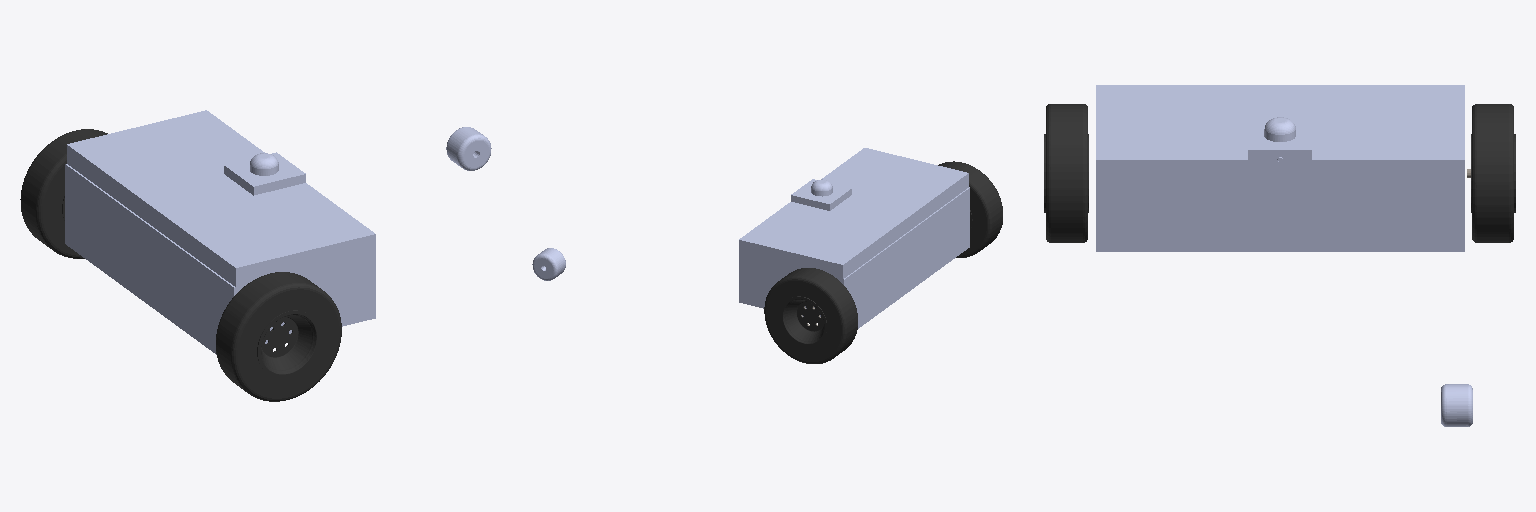
URDF robot description (mowbot):
<?xml version="1.0" encoding="utf-8"?>
<!-- This URDF was automatically created by SolidWorks to URDF Exporter! Originally created by [author] ([email redacted]) 
     Commit Version: 1.6.0-1-g15f4949  Build Version: 1.6.7594.29634
     For more information, please see http://wiki.ros.org/sw_urdf_exporter -->
<robot
  name="mowbot">
  <link
    name="base_link_collision">
    <inertial>
      <origin
        xyz="-1.07242311207568 -0.466809806679582 0.659283164452566"
        rpy="0 0 0" />
      <mass
        value="8.43639227238404" />
      <inertia
        ixx="0.784903759828431"
        ixy="1.08724156323787E-16"
        ixz="-0.0262712397999976"
        iyy="0.513799136067179"
        iyz="1.21747716886318E-16"
        izz="1.27862934221056" />
    </inertial>
    <visual>
      <origin
        xyz="0 0 0"
        rpy="0 0 0" />
      <geometry>
        <mesh
          filename="package://mowbot/meshes/base_link_collision.STL" />
      </geometry>
      <material
        name="">
        <color
          rgba="0.792156862745098 0.819607843137255 0.933333333333333 1" />
      </material>
    </visual>
    <collision>
      <origin
        xyz="0 0 0"
        rpy="0 0 0" />
      <geometry>
        <mesh
          filename="package://mowbot/meshes/base_link_collision.STL" />
      </geometry>
    </collision>
  </link>
  <link
    name="Left_back_link_collision">
    <inertial>
      <origin
        xyz="0 -0.0516944479368262 1.11022302462516E-16"
        rpy="0 0 0" />
      <mass
        value="0.457406434462016" />
      <inertia
        ixx="0.000379865320962435"
        ixy="-1.53340823737443E-20"
        ixz="2.00126009449548E-20"
        iyy="0.000605566845786777"
        iyz="-6.36282392622323E-20"
        izz="0.000379865320962435" />
    </inertial>
    <visual>
      <origin
        xyz="0 0 0"
        rpy="0 0 0" />
      <geometry>
        <mesh
          filename="package://mowbot/meshes/Left_back_link_collision.STL" />
      </geometry>
      <material
        name="">
        <color
          rgba="0.647058823529412 0.619607843137255 0.588235294117647 1" />
      </material>
    </visual>
    <collision>
      <origin
        xyz="0 0 0"
        rpy="0 0 0" />
      <geometry>
        <mesh
          filename="package://mowbot/meshes/Left_back_link_collision.STL" />
      </geometry>
    </collision>
  </link>
  <joint
    name="Left_drive_wheel_collision"
    type="fixed">
    <origin
      xyz="-1.5558 -0.024 0.62929"
      rpy="0 0 3.1416" />
    <parent
      link="base_link_collision" />
    <child
      link="Left_back_link_collision" />
    <axis
      xyz="0 1 0" />
    <limit
      effort="14.08"
      velocity="12.47" />
  </joint>
  <link
    name="Big_Left_drive_wheel">
    <inertial>
      <origin
        xyz="2.88657986402541E-15 0.00253999999999991 6.99440505513849E-15"
        rpy="0 0 0" />
      <mass
        value="0.865783559302399" />
      <inertia
        ixx="0.0087101639453226"
        ixy="-1.8447046377941E-19"
        ixz="6.2871241193797E-18"
        iyy="0.0148072252563878"
        iyz="1.27245613539844E-18"
        izz="0.00871016394532261" />
    </inertial>
    <visual>
      <origin
        xyz="0 0 0"
        rpy="0 0 0" />
      <geometry>
        <mesh
          filename="package://mowbot/meshes/Big_Left_drive_wheel.STL" />
      </geometry>
      <material
        name="">
        <color
          rgba="0.250980392156863 0.250980392156863 0.250980392156863 1" />
      </material>
    </visual>
    <collision>
      <origin
        xyz="0 0 0"
        rpy="0 0 0" />
      <geometry>
        <mesh
          filename="package://mowbot/meshes/Big_Left_drive_wheel.STL" />
      </geometry>
    </collision>
  </link>
  <joint
    name="Left_big_wheel"
    type="fixed">
    <origin
      xyz="0 -0.059347 0"
      rpy="0 0 -3.1416" />
    <parent
      link="Left_back_link_collision" />
    <child
      link="Big_Left_drive_wheel" />
    <axis
      xyz="0 0 0" />
  </joint>
  <link
    name="Right_back_link_collision">
    <inertial>
      <origin
        xyz="0.0516944479368262 0 0"
        rpy="0 0 0" />
      <mass
        value="0.457406434462017" />
      <inertia
        ixx="0.000605566845786777"
        ixy="-4.54885968259021E-20"
        ixz="-1.4852017744384E-20"
        iyy="0.000379865320962435"
        iyz="6.66407504159206E-20"
        izz="0.000379865320962436" />
    </inertial>
    <visual>
      <origin
        xyz="0 0 0"
        rpy="0 0 0" />
      <geometry>
        <mesh
          filename="package://mowbot/meshes/Right_back_link_collision.STL" />
      </geometry>
      <material
        name="">
        <color
          rgba="0.647058823529412 0.619607843137255 0.588235294117647 1" />
      </material>
    </visual>
    <collision>
      <origin
        xyz="0 0 0"
        rpy="0 0 0" />
      <geometry>
        <mesh
          filename="package://mowbot/meshes/Right_back_link_collision.STL" />
      </geometry>
    </collision>
  </link>
  <joint
    name="Right_drive_wheel_collision"
    type="fixed">
    <origin
      xyz="-1.5558 -0.9108 0.62929"
      rpy="0 0 -1.5708" />
    <parent
      link="base_link_collision" />
    <child
      link="Right_back_link_collision" />
    <axis
      xyz="-1 0 0" />
    <limit
      effort="14.08"
      velocity="12.47" />
  </joint>
  <link
    name="Big_right_drive_wheel">
    <inertial>
      <origin
        xyz="0 -0.0025400000000001 0"
        rpy="0 0 0" />
      <mass
        value="0.865783559302402" />
      <inertia
        ixx="0.00871016394532259"
        ixy="2.01760622051767E-18"
        ixz="2.57399683328125E-18"
        iyy="0.0148072252563877"
        iyz="2.68460910313788E-18"
        izz="0.00871016394532259" />
    </inertial>
    <visual>
      <origin
        xyz="0 0 0"
        rpy="0 0 0" />
      <geometry>
        <mesh
          filename="package://mowbot/meshes/Big_right_drive_wheel.STL" />
      </geometry>
      <material
        name="">
        <color
          rgba="0.250980392156863 0.250980392156863 0.250980392156863 1" />
      </material>
    </visual>
    <collision>
      <origin
        xyz="0 0 0"
        rpy="0 0 0" />
      <geometry>
        <mesh
          filename="package://mowbot/meshes/Big_right_drive_wheel.STL" />
      </geometry>
    </collision>
  </link>
  <joint
    name="Right_drive_wheel"
    type="fixed">
    <origin
      xyz="0.059347 0 0"
      rpy="0 0 1.5708" />
    <parent
      link="Right_back_link_collision" />
    <child
      link="Big_right_drive_wheel" />
    <axis
      xyz="0 -1 0" />
  </joint>
  <link
    name="Front_right_wheel_collision">
    <inertial>
      <origin
        xyz="-0.0362351705056738 0.011773802207645 -1.11022302462516E-16"
        rpy="0 0 0" />
      <mass
        value="0.572204494653308" />
      <inertia
        ixx="0.000736746749851423"
        ixy="-3.31369879620031E-05"
        ixz="1.207002854401E-20"
        iyy="0.000645531144479367"
        iyz="-3.92188381438836E-21"
        izz="0.000634764026881268" />
    </inertial>
    <visual>
      <origin
        xyz="0 0 0"
        rpy="0 0 0" />
      <geometry>
        <mesh
          filename="package://mowbot/meshes/Front_right_wheel_collision.STL" />
      </geometry>
      <material
        name="">
        <color
          rgba="0.792156862745098 0.819607843137255 0.933333333333333 1" />
      </material>
    </visual>
    <collision>
      <origin
        xyz="0 0 0"
        rpy="0 0 0" />
      <geometry>
        <mesh
          filename="package://mowbot/meshes/Front_right_wheel_collision.STL" />
      </geometry>
    </collision>
  </link>
  <joint
    name="Front_right_wheel_collision"
    type="fixed">
    <origin
      xyz="-0.46473 -0.9216 0.53563"
      rpy="0 0 -1.5708" />
    <parent
      link="base_link_collision" />
    <child
      link="Front_right_wheel_collision" />
    <axis
      xyz="-0.95105 0.30902 0" />
  </joint>
  <link
    name="Front_left_wheel_collision">
    <inertial>
      <origin
        xyz="0.0380933250274411 0.000713153807905376 0"
        rpy="0 0 0" />
      <mass
        value="0.572204494653308" />
      <inertia
        ixx="0.000747474364238742"
        ixy="2.1100758786185E-06"
        ixz="-2.22480801212241E-20"
        iyy="0.000634803530092046"
        iyz="-5.65057302719004E-21"
        izz="0.000634764026881268" />
    </inertial>
    <visual>
      <origin
        xyz="0 0 0"
        rpy="0 0 0" />
      <geometry>
        <mesh
          filename="package://mowbot/meshes/Front_left_wheel_collision.STL" />
      </geometry>
      <material
        name="">
        <color
          rgba="0.792156862745098 0.819607843137255 0.933333333333333 1" />
      </material>
    </visual>
    <collision>
      <origin
        xyz="0 0 0"
        rpy="0 0 0" />
      <geometry>
        <mesh
          filename="package://mowbot/meshes/Front_left_wheel_collision.STL" />
      </geometry>
    </collision>
  </link>
  <joint
    name="Front_left_caster_wheel_collision"
    type="fixed">
    <origin
      xyz="-0.45376 -0.0096498 0.53563"
      rpy="0 0 -1.5708" />
    <parent
      link="base_link_collision" />
    <child
      link="Front_left_wheel_collision" />
    <axis
      xyz="-0.99982 -0.018718 0" />
  </joint>
  <link
    name="Front_right_pivot_collision">
    <inertial>
      <origin
        xyz="0.00312127257340478 0.00960663401184786 -0.138503316862634"
        rpy="0 0 0" />
      <mass
        value="0.653153653717284" />
      <inertia
        ixx="0.00187148737171852"
        ixy="0.000481271649470043"
        ixz="-3.57978459347905E-05"
        iyy="0.00319627975514256"
        iyz="-0.000110145417942268"
        izz="0.00245508069726112" />
    </inertial>
    <visual>
      <origin
        xyz="0 0 0"
        rpy="0 0 0" />
      <geometry>
        <mesh
          filename="package://mowbot/meshes/Front_right_pivot_collision.STL" />
      </geometry>
      <material
        name="">
        <color
          rgba="0.792156862745098 0.819607843137255 0.933333333333333 1" />
      </material>
    </visual>
    <collision>
      <origin
        xyz="0 0 0"
        rpy="0 0 0" />
      <geometry>
        <mesh
          filename="package://mowbot/meshes/Front_right_pivot_collision.STL" />
      </geometry>
    </collision>
  </link>
  <joint
    name="Right_caster_wheel_pivot_collision"
    type="fixed">
    <origin
      xyz="-0.45126 -0.88591 0.73883"
      rpy="0 0 -1.5708" />
    <parent
      link="base_link_collision" />
    <child
      link="Front_right_pivot_collision" />
    <axis
      xyz="0 0 -1" />
    <limit
      lower="0"
      upper="0"
      effort="0"
      velocity="0" />
  </joint>
  <link
    name="Front_left_pivot_collision">
    <inertial>
      <origin
        xyz="-0.000189247104649098 0.0100992051691442 -0.138503316862633"
        rpy="0 0 0" />
      <mass
        value="0.65315365371728" />
      <inertia
        ixx="0.0017156831912875"
        ixy="-3.06474534539606E-05"
        ixz="2.15969712554344E-06"
        iyy="0.00335208393557355"
        iyz="-0.000115796522294816"
        izz="0.00245508069726111" />
    </inertial>
    <visual>
      <origin
        xyz="0 0 0"
        rpy="0 0 0" />
      <geometry>
        <mesh
          filename="package://mowbot/meshes/Front_left_pivot_collision.STL" />
      </geometry>
      <material
        name="">
        <color
          rgba="0.792156862745098 0.819607843137255 0.933333333333333 1" />
      </material>
    </visual>
    <collision>
      <origin
        xyz="0 0 0"
        rpy="0 0 0" />
      <geometry>
        <mesh
          filename="package://mowbot/meshes/Front_left_pivot_collision.STL" />
      </geometry>
    </collision>
  </link>
  <joint
    name="left_caster_wheel_pivot_collision"
    type="fixed">
    <origin
      xyz="-0.45126 -0.04771 0.73883"
      rpy="0 0 -1.5708" />
    <parent
      link="base_link_collision" />
    <child
      link="Front_left_pivot_collision" />
    <axis
      xyz="0 0 -1" />
    <limit
      lower="0"
      upper="0"
      effort="0"
      velocity="0" />
  </joint>
  <link
    name="mow_bot_shell">
    <inertial>
      <origin
        xyz="0.0103177962563166 -1.66533453693773E-16 -0.0754580559320999"
        rpy="0 0 0" />
      <mass
        value="2.52229769150772" />
      <inertia
        ixx="0.240070247017617"
        ixy="1.70831815742384E-15"
        ixz="-0.000443159597835744"
        iyy="0.0837962037965343"
        iyz="2.11120651691378E-15"
        izz="0.291120617111823" />
    </inertial>
    <visual>
      <origin
        xyz="0 0 0"
        rpy="0 0 0" />
      <geometry>
        <mesh
          filename="package://mowbot/meshes/mow_bot_shell.STL" />
      </geometry>
      <material
        name="">
        <color
          rgba="0.792156862745098 0.819607843137255 0.933333333333333 1" />
      </material>
    </visual>
    <collision>
      <origin
        xyz="0 0 0"
        rpy="0 0 0" />
      <geometry>
        <mesh
          filename="package://mowbot/meshes/mow_bot_shell.STL" />
      </geometry>
    </collision>
  </link>
  <joint
    name="shell_main"
    type="fixed">
    <origin
      xyz="-1.4447 -0.46681 0.81909"
      rpy="0 0 0" />
    <parent
      link="base_link_collision" />
    <child
      link="mow_bot_shell" />
    <axis
      xyz="0 0 0" />
  </joint>
  <link
    name="Camera">
    <inertial>
      <origin
        xyz="0.00605257666050485 1.11022302462516E-16 0"
        rpy="0 0 0" />
      <mass
        value="0.0169771128221458" />
      <inertia
        ixx="4.41883394431852E-06"
        ixy="7.09527723611906E-20"
        ixz="1.06858031281253E-20"
        iyy="1.15088438571727E-06"
        iyz="1.61028597114318E-20"
        izz="3.79395393827725E-06" />
    </inertial>
    <visual>
      <origin
        xyz="0 0 0"
        rpy="0 0 0" />
      <geometry>
        <mesh
          filename="package://mowbot/meshes/Camera.STL" />
      </geometry>
      <material
        name="">
        <color
          rgba="0.792156862745098 0.819607843137255 0.933333333333333 1" />
      </material>
    </visual>
    <collision>
      <origin
        xyz="0 0 0"
        rpy="0 0 0" />
      <geometry>
        <mesh
          filename="package://mowbot/meshes/Camera.STL" />
      </geometry>
    </collision>
  </link>
  <joint
    name="camera_box"
    type="fixed">
    <origin
      xyz="0.21869 0 0"
      rpy="0 0 3.1416" />
    <parent
      link="mow_bot_shell" />
    <child
      link="Camera" />
    <axis
      xyz="0 0 0" />
  </joint>
  <link
    name="LiDAR">
    <inertial>
      <origin
        xyz="-2.22044604925031E-16 -1.66533453693773E-16 -0.0221554573851589"
        rpy="0 0 0" />
      <mass
        value="0.148759159944866" />
      <inertia
        ixx="6.39045146661207E-05"
        ixy="-3.10192729702637E-22"
        ixz="4.44079976516149E-19"
        iyy="6.39045146661208E-05"
        iyz="2.13938456213802E-19"
        izz="9.5825436313615E-05" />
    </inertial>
    <visual>
      <origin
        xyz="0 0 0"
        rpy="0 0 0" />
      <geometry>
        <mesh
          filename="package://mowbot/meshes/LiDAR.STL" />
      </geometry>
      <material
        name="">
        <color
          rgba="0.792156862745098 0.819607843137255 0.933333333333333 1" />
      </material>
    </visual>
    <collision>
      <origin
        xyz="0 0 0"
        rpy="0 0 0" />
      <geometry>
        <mesh
          filename="package://mowbot/meshes/LiDAR.STL" />
      </geometry>
    </collision>
  </link>
  <joint
    name="LiDAR_unit"
    type="fixed">
    <origin
      xyz="0.13767 0 0.064668"
      rpy="0 0 0" />
    <parent
      link="mow_bot_shell" />
    <child
      link="LiDAR" />
    <axis
      xyz="0 0 0" />
  </joint>
  <link
    name="back_plate">
    <inertial>
      <origin
        xyz="0.00253999999999999 0 1.11022302462516E-16"
        rpy="0 0 0" />
      <mass
        value="1.01763667439999" />
      <inertia
        ixx="0.069552044891922"
        ixy="-2.18773587598435E-18"
        ixz="-1.61488076606738E-18"
        iyy="0.00443382318036685"
        iyz="-9.85967159903113E-33"
        izz="0.0651225986347341" />
    </inertial>
    <visual>
      <origin
        xyz="0 0 0"
        rpy="0 0 0" />
      <geometry>
        <mesh
          filename="package://mowbot/meshes/back_plate.STL" />
      </geometry>
      <material
        name="">
        <color
          rgba="0.792156862745098 0.819607843137255 0.933333333333333 1" />
      </material>
    </visual>
    <collision>
      <origin
        xyz="0 0 0"
        rpy="0 0 0" />
      <geometry>
        <mesh
          filename="package://mowbot/meshes/back_plate.STL" />
      </geometry>
    </collision>
  </link>
  <joint
    name="mowbot_back"
    type="fixed">
    <origin
      xyz="-1.6501 -0.46681 0.64993"
      rpy="0 0 0" />
    <parent
      link="base_link_collision" />
    <child
      link="back_plate" />
    <axis
      xyz="0 0 0" />
  </joint>
</robot>

--- What the picture shows (computed from the rendered views, not written in the file) ---
Views: 3 orthographic renders of the robot side by side, from view 1: azimuth 30°, elevation 25°; view 2: azimuth 150°, elevation 25°; view 3: azimuth 270°, elevation 25°.
Model mowbot with 13 links and 12 joints (12 fixed), rooted at base_link_collision, posed all joints at 0.
Links seen in each view (by area): view 1: mow_bot_shell, back_plate, Big_right_drive_wheel, Big_Left_drive_wheel, Front_left_wheel_collision, LiDAR; view 2: mow_bot_shell, back_plate, Big_Left_drive_wheel, Big_right_drive_wheel, Front_left_wheel_collision; view 3: mow_bot_shell, Big_right_drive_wheel, Big_Left_drive_wheel, Front_left_wheel_collision, LiDAR.
Boxes of the visible links, box(x1,y1,x2,y2) form: mow_bot_shell: box(67, 110, 375, 343); back_plate: box(65, 164, 235, 354); Big_right_drive_wheel: box(216, 272, 341, 401); Big_Left_drive_wheel: box(20, 129, 107, 258); Front_left_wheel_collision: box(446, 127, 491, 170); LiDAR: box(250, 153, 278, 175); mow_bot_shell: box(739, 148, 968, 316); back_plate: box(843, 187, 969, 328); Big_Left_drive_wheel: box(764, 268, 857, 363); Big_right_drive_wheel: box(938, 161, 1002, 257); Front_left_wheel_collision: box(532, 248, 565, 280); mow_bot_shell: box(1096, 85, 1464, 251); Big_right_drive_wheel: box(1044, 104, 1088, 242); Big_Left_drive_wheel: box(1471, 104, 1515, 242); Front_left_wheel_collision: box(1441, 384, 1472, 426); LiDAR: box(1264, 117, 1295, 141).
Size in the robot's own frame: 1.32 by 1.12 by 0.4196 metres.
8 mesh visuals loaded from 13 distinct referenced files (8 binary STL); not drawn: 5 (reference not matched to a file when rendering).